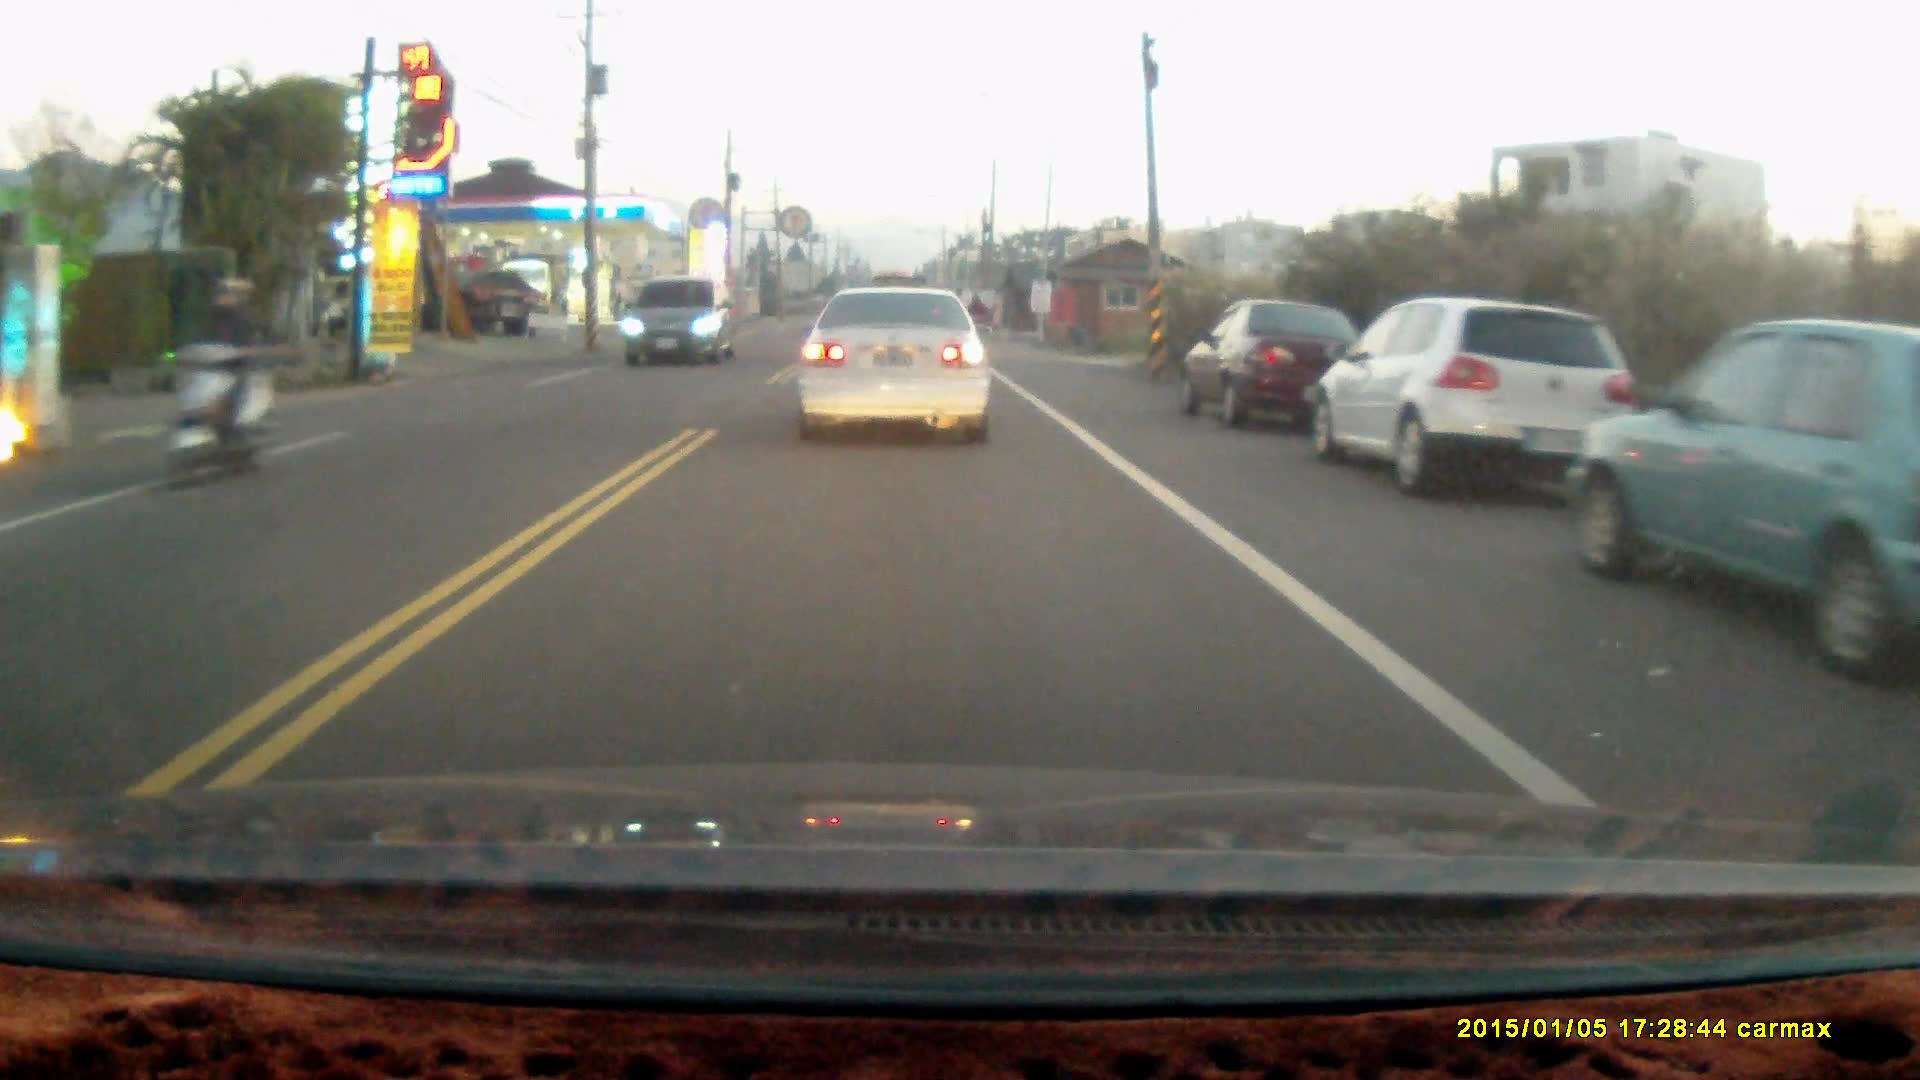rider: (159, 273, 277, 490)
vehicle: (1565, 317, 1920, 682), (1315, 294, 1638, 497), (796, 289, 995, 455), (1183, 298, 1376, 430), (620, 278, 740, 368)
